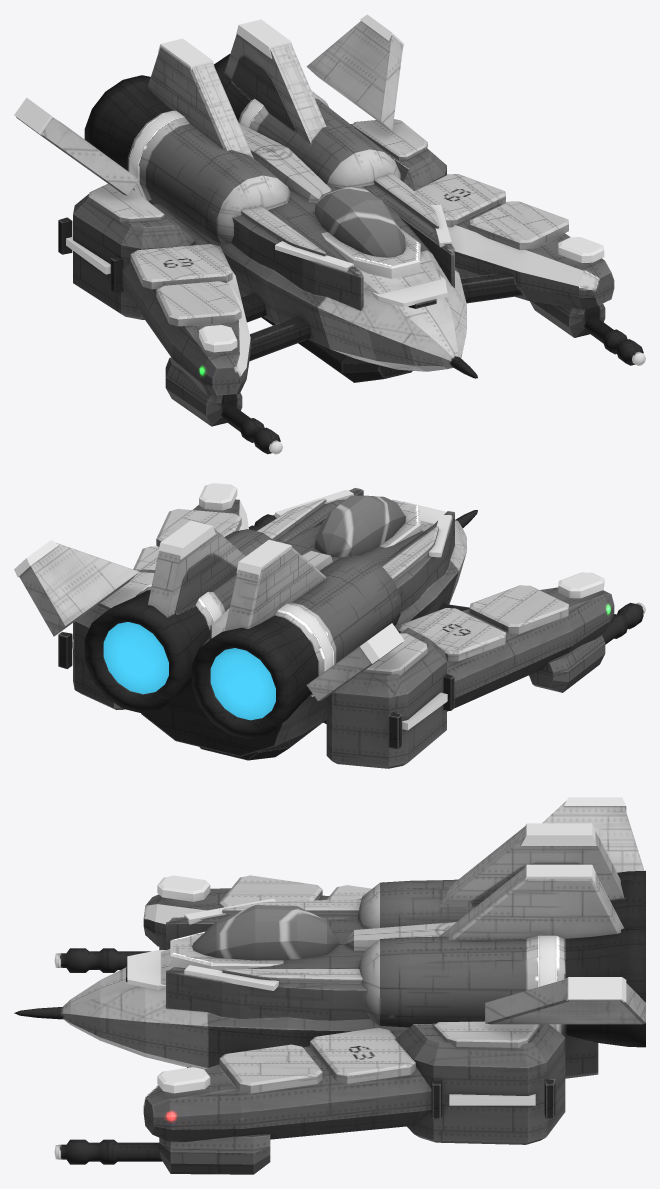
The model's file is Ironclad.glb.
3 views of the same model, one above another, from view 1: azimuth 30°, elevation 25°; view 2: azimuth 150°, elevation 25°; view 3: azimuth 270°, elevation 25° (orthographic). The views are drawn at different scales.
Visible parts, largest first — view 1: Ironclad; view 2: Ironclad; view 3: Ironclad.
Boxes of the visible parts, box(x1,y1,x2,y2) form: Ironclad: box(14, 14, 645, 454); Ironclad: box(14, 483, 645, 768); Ironclad: box(14, 797, 645, 1174).
Size of the model in its own units: 0.855 by 0.434 by 1.06.
Materials: 6 (6 with a texture image).
